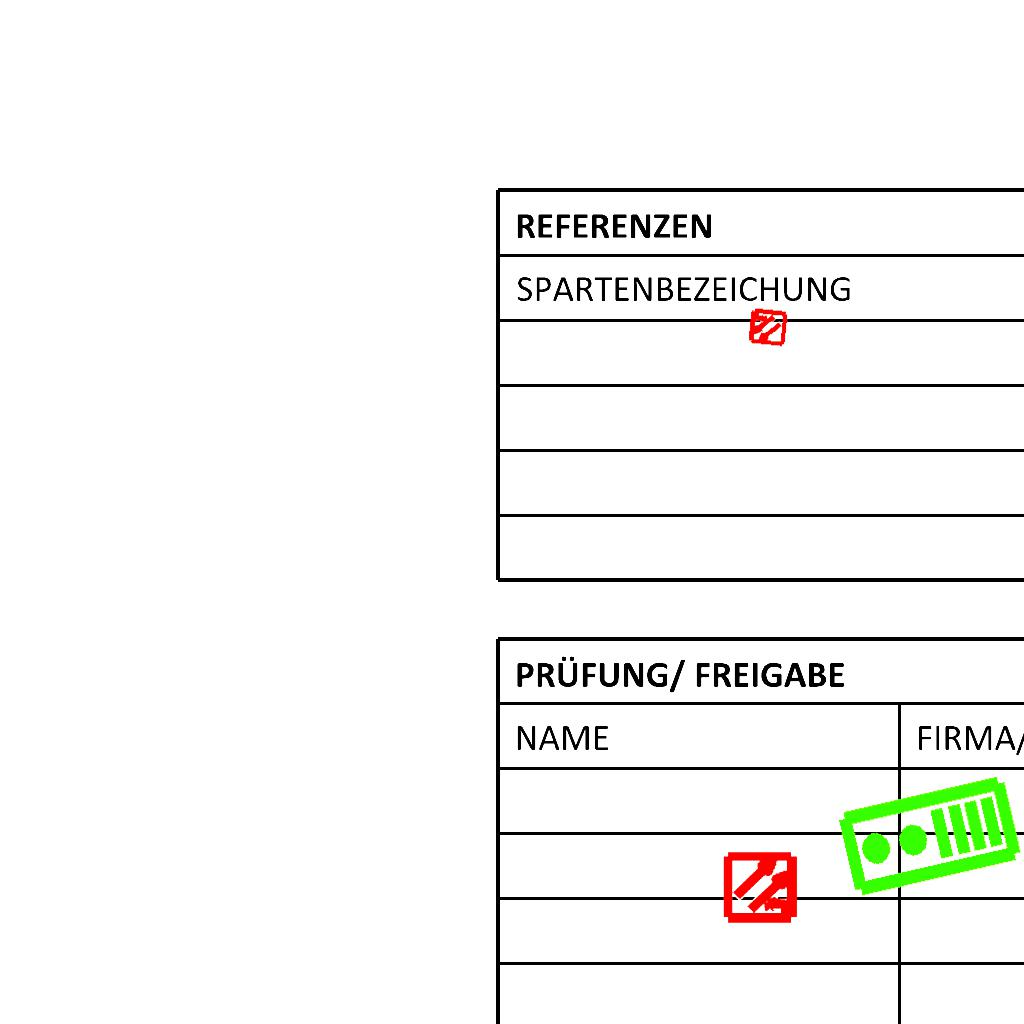Gegensprechanlage_mit_Video: (833, 771, 1024, 905)
OT_Multisensormelder_(Kombination_RMO_WMD): (706, 831, 819, 944), (736, 296, 798, 358)
